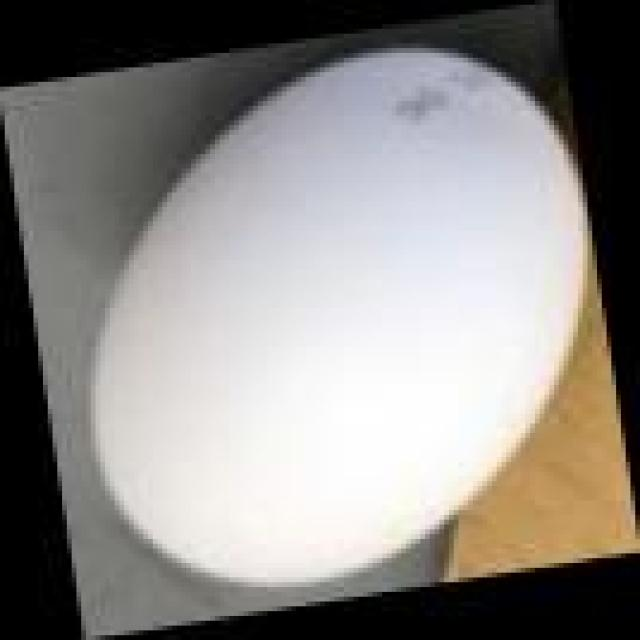Egg: (59, 35, 614, 603)
